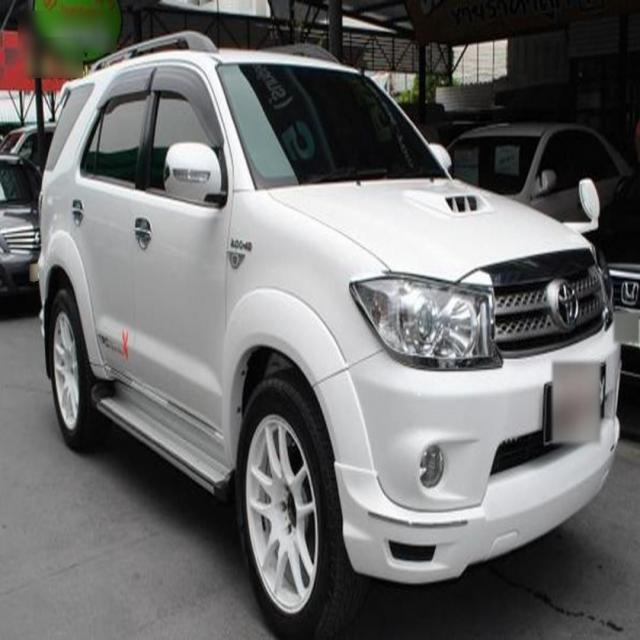back_right_door: (68, 58, 159, 408)
front_bumper: (312, 246, 624, 582)
front_glass: (217, 63, 449, 192)
front_right_door: (130, 60, 234, 464)
front_right_light: (349, 274, 504, 371)
hood: (264, 176, 593, 285)
left_mirror: (429, 140, 456, 172)
right_mirror: (162, 142, 221, 208)
wheel: (50, 292, 337, 632)
